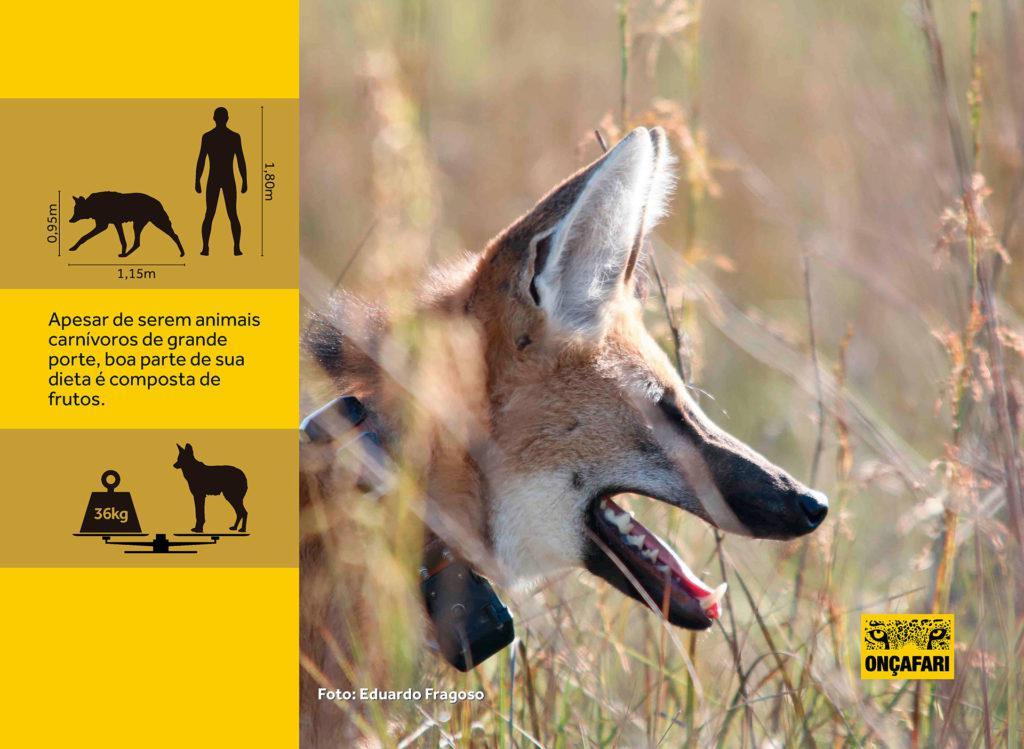LoboGuara: (374, 118, 835, 671)
